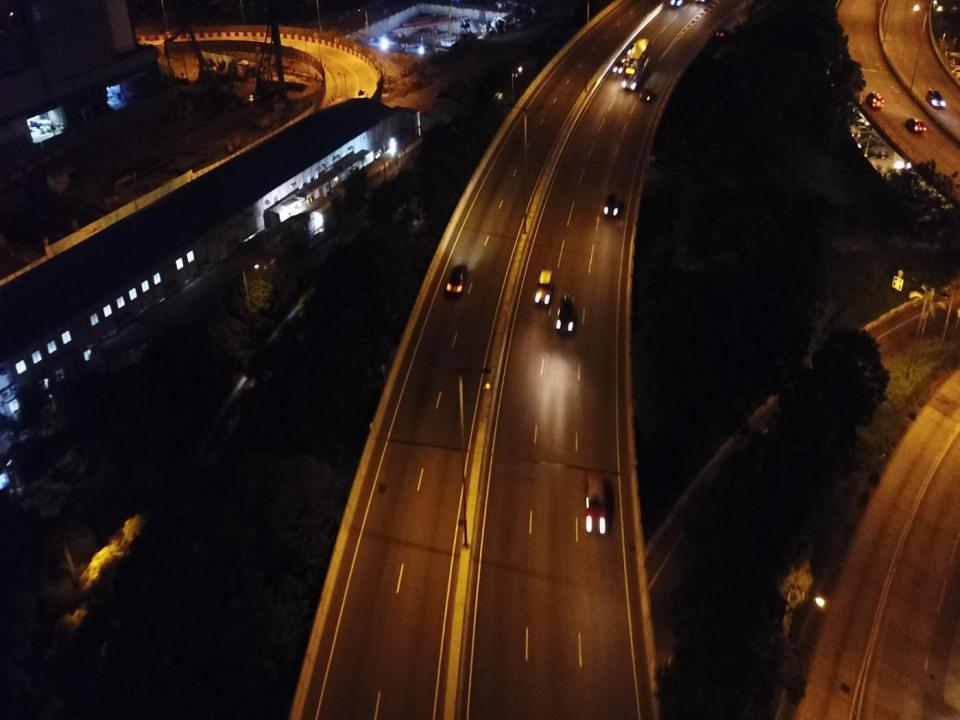bus: (622, 38, 650, 90)
car: (583, 468, 608, 534), (445, 259, 467, 298), (557, 298, 577, 336), (537, 269, 552, 306), (602, 196, 620, 219), (924, 89, 946, 107), (640, 80, 653, 102), (906, 117, 923, 132), (613, 58, 624, 74), (628, 44, 639, 56), (717, 30, 730, 38)
van: (865, 93, 883, 107)
